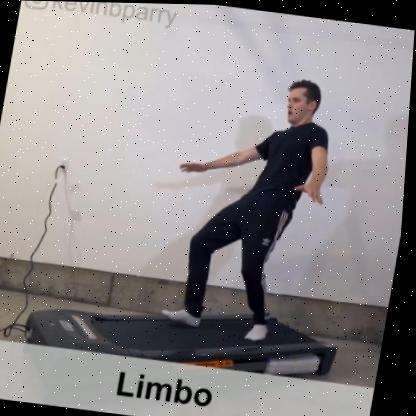person: (211, 63, 339, 332)
